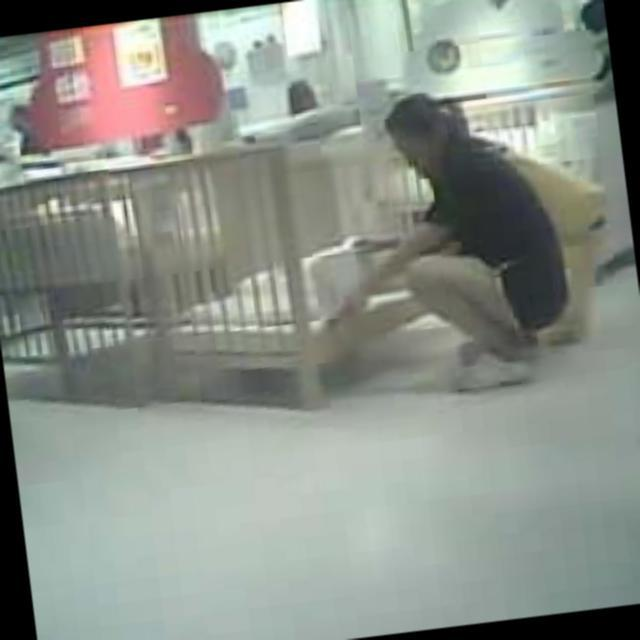person: (316, 79, 583, 406)
